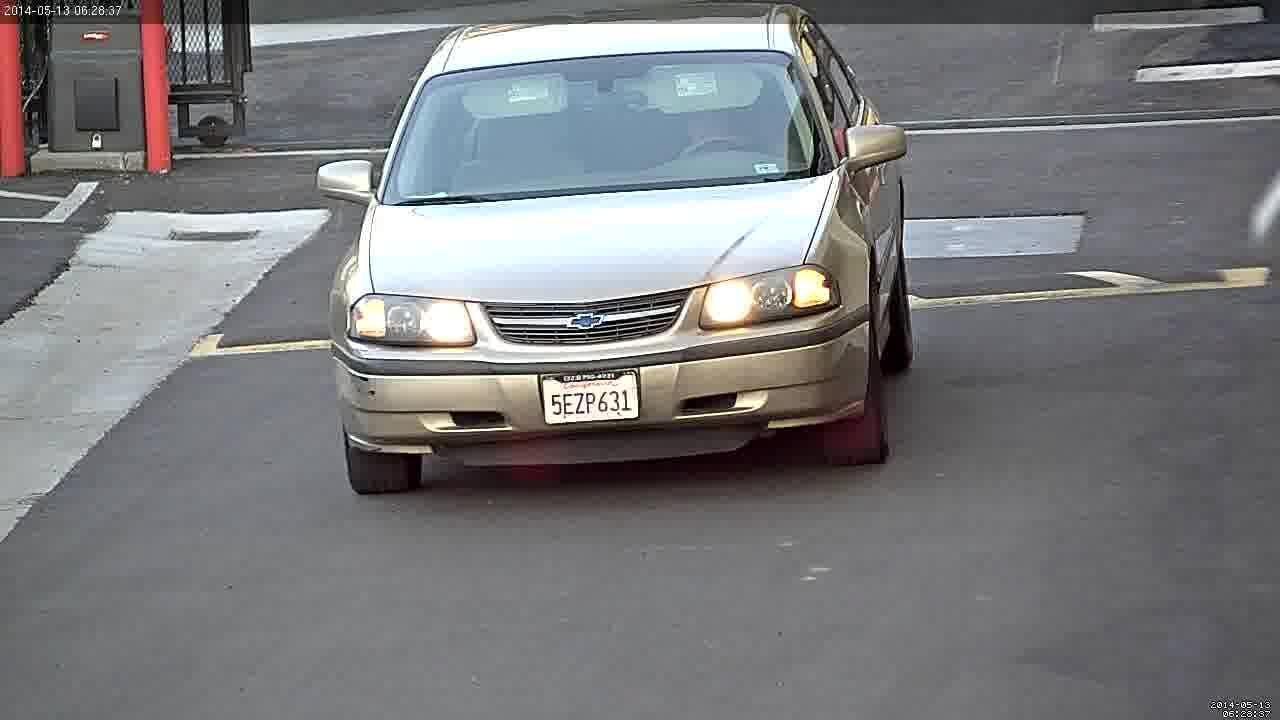placa de veiculo: (518, 349, 665, 453)
